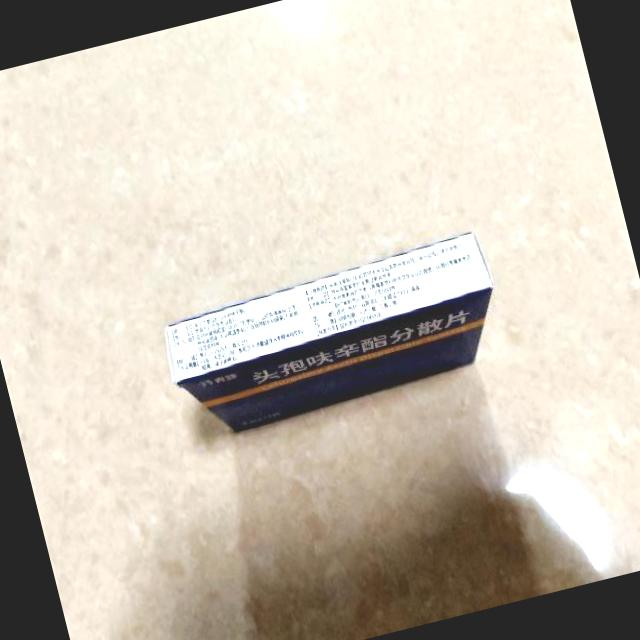box: (158, 228, 512, 443)
